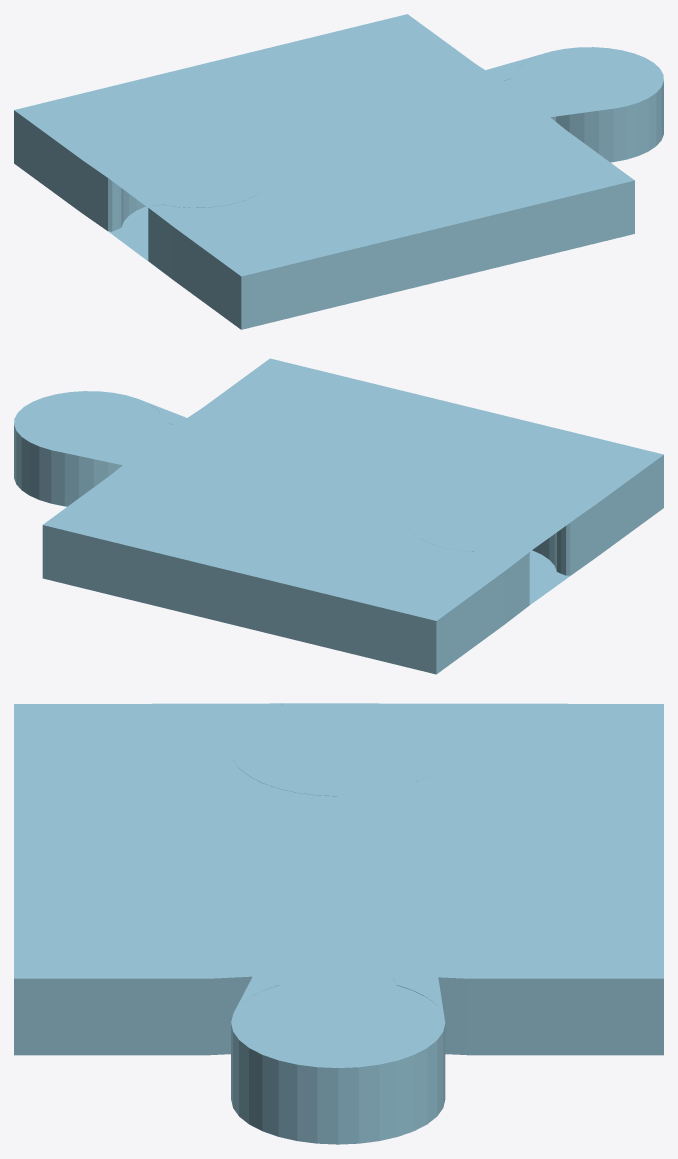
Rendered from block_4.fbx.
3 views of the same model, one above another, from view 1: azimuth 30°, elevation 25°; view 2: azimuth 150°, elevation 25°; view 3: azimuth 270°, elevation 25° (orthographic). The views are drawn at different scales.
Parts seen in each view (by area): view 1: Plane.004; view 2: Plane.004; view 3: Plane.004.
Part boxes in pixels (x1,y1,x2,y2): Plane.004: (14,14,663,329); Plane.004: (14,358,663,674); Plane.004: (14,703,663,1144).
Size of the model in its own units: 134 by 13.53 by 100.
